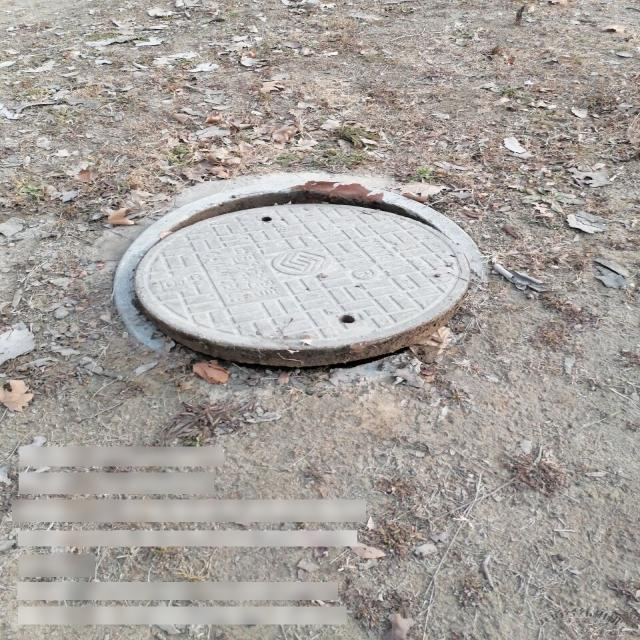Faulty: (112, 178, 486, 390)
